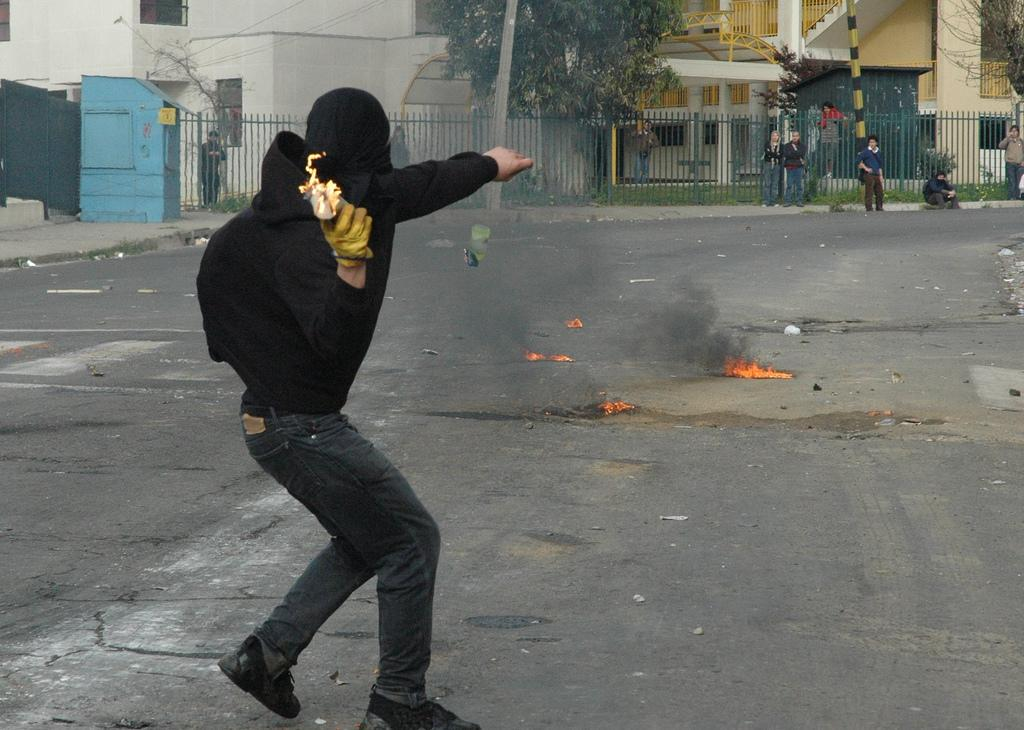fire: (738, 364, 790, 382), (530, 354, 582, 366), (602, 394, 630, 412), (570, 316, 592, 330)
